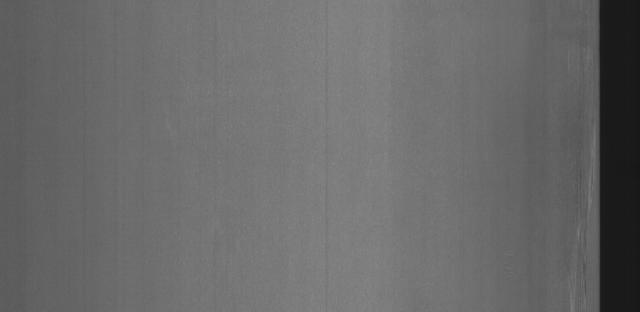silk_spot: (560, 27, 598, 308)
